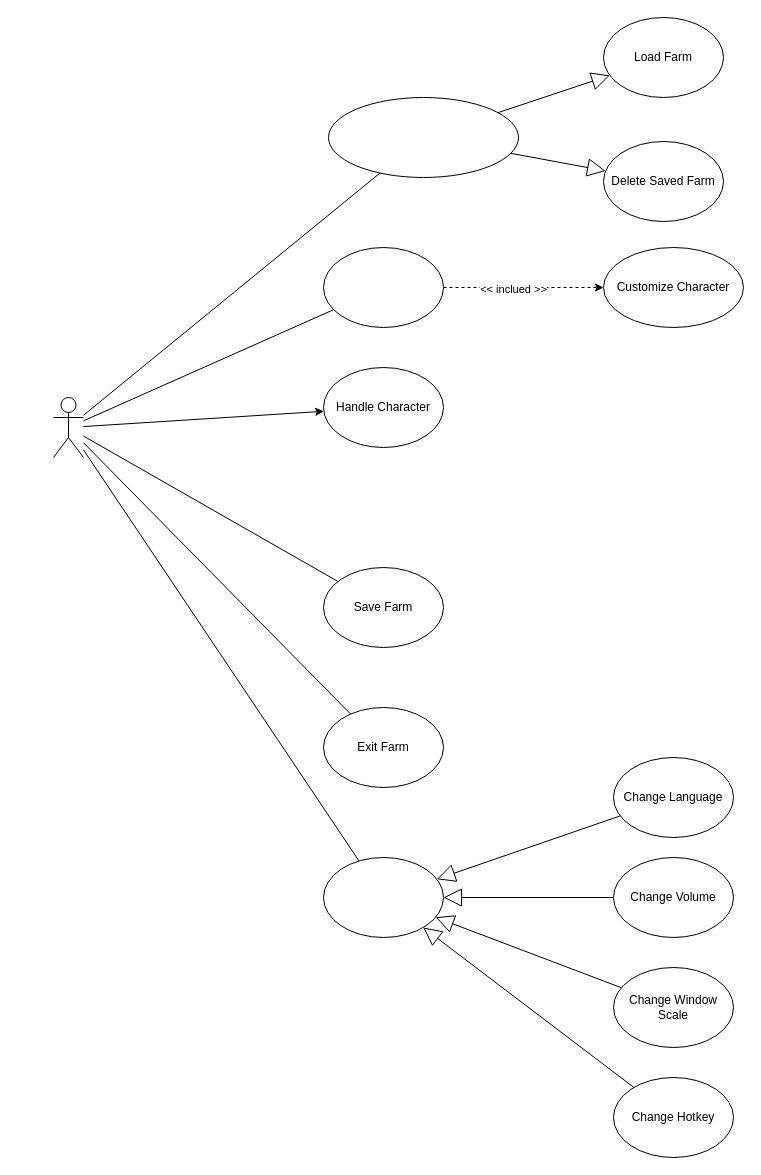
This 761x1175 diagram has some shape labels left out. Each missing label, with the box of its shape:
Create New Farm: (322, 246, 444, 328)
Customize App Configuration: (322, 856, 444, 938)
Load Saved Farm List: (328, 96, 518, 178)
Player: (52, 396, 84, 458)
